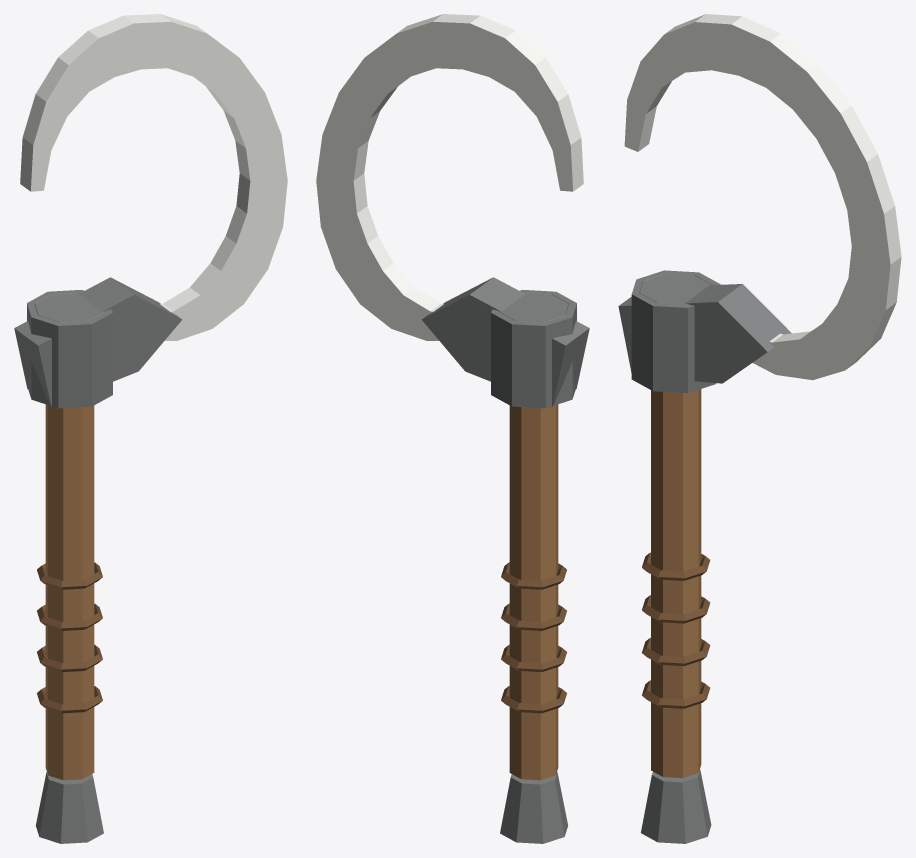
Rendered from t8_sickle.glb.
The picture shows the model from 3 angles, left to right: view 1: azimuth 30°, elevation 25°; view 2: azimuth 150°, elevation 25°; view 3: azimuth 330°, elevation 25°; orthographic projection. The views are drawn at different scales.
Parts seen in each view (by area): view 1: CurvedBlade, WoodHandle, BladeSocket, BladeBasePlate, BottomPommel, LeatherWrap3, LeatherWrap1, LeatherWrap4, LeatherWrap2; view 2: CurvedBlade, WoodHandle, BladeSocket, BladeBasePlate, BottomPommel, LeatherWrap3, LeatherWrap1, LeatherWrap4, LeatherWrap2; view 3: CurvedBlade, WoodHandle, BladeSocket, BladeBasePlate, BottomPommel, LeatherWrap4, LeatherWrap2, LeatherWrap3, LeatherWrap1.
Boxes of the visible parts, <box> form: CurvedBlade: <box>20,14,287,340</box>; WoodHandle: <box>45,404,94,780</box>; BladeSocket: <box>27,289,112,408</box>; BladeBasePlate: <box>14,277,182,406</box>; BottomPommel: <box>35,772,103,843</box>; LeatherWrap3: <box>37,603,102,630</box>; LeatherWrap1: <box>37,686,102,713</box>; LeatherWrap4: <box>37,562,102,589</box>; LeatherWrap2: <box>37,644,102,672</box>; CurvedBlade: <box>316,14,583,340</box>; WoodHandle: <box>509,404,558,780</box>; BladeSocket: <box>491,289,576,408</box>; BladeBasePlate: <box>421,277,589,406</box>; BottomPommel: <box>500,772,568,843</box>; LeatherWrap3: <box>501,603,566,630</box>; LeatherWrap1: <box>501,686,566,713</box>; LeatherWrap4: <box>501,562,566,589</box>; LeatherWrap2: <box>501,644,566,672</box>; CurvedBlade: <box>624,14,901,380</box>; WoodHandle: <box>651,389,701,777</box>; BladeSocket: <box>631,270,720,393</box>; BladeBasePlate: <box>618,284,791,383</box>; BottomPommel: <box>641,769,711,843</box>; LeatherWrap4: <box>642,552,710,580</box>; LeatherWrap2: <box>642,637,710,666</box>; LeatherWrap3: <box>642,595,710,623</box>; LeatherWrap1: <box>642,680,710,708</box>.
Size of the model in its own units: 0.5877 by 1.74 by 0.176.
